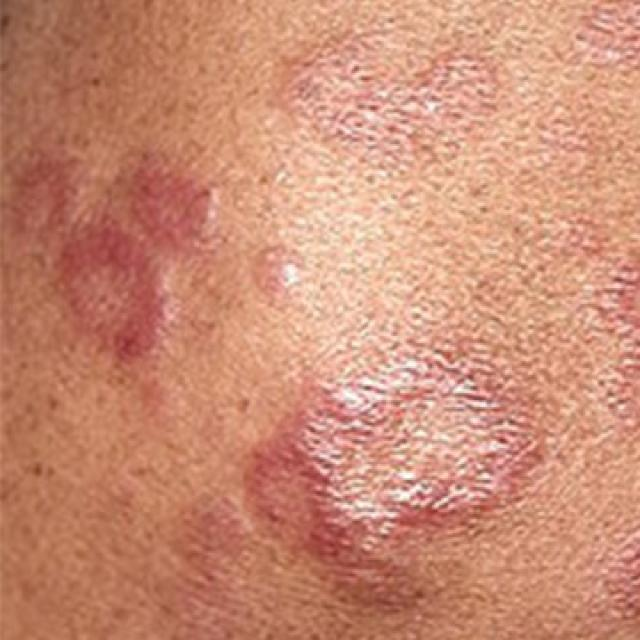Leprosy: (230, 352, 572, 614), (0, 148, 306, 364), (272, 23, 508, 176), (588, 510, 638, 638)
